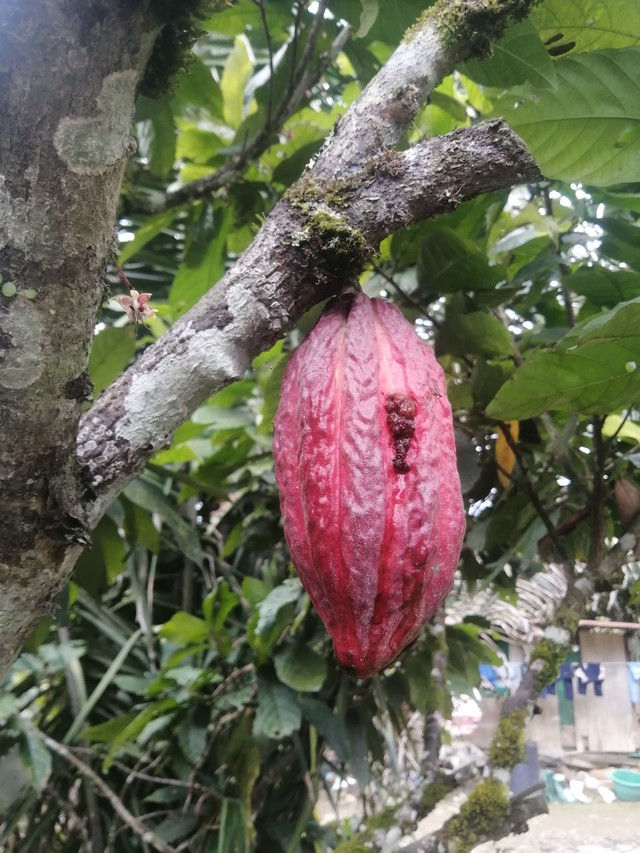carmenta foraseminis: (272, 292, 476, 685)
